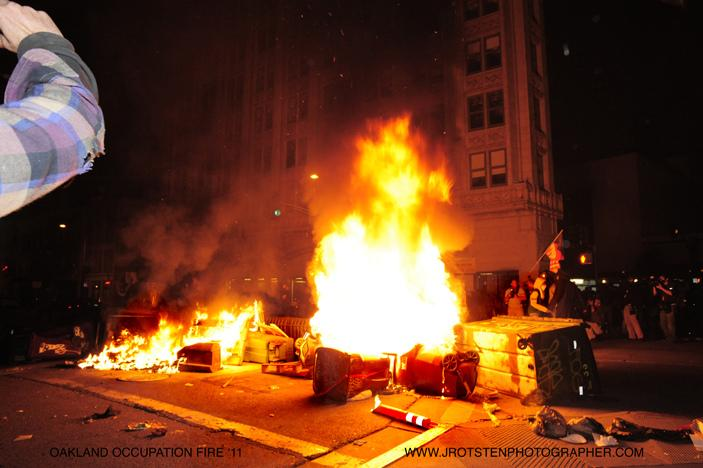fire: (311, 230, 458, 344), (101, 322, 190, 368), (210, 315, 246, 350)
